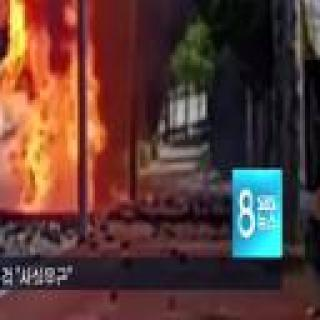fire: (0, 60, 96, 221)
